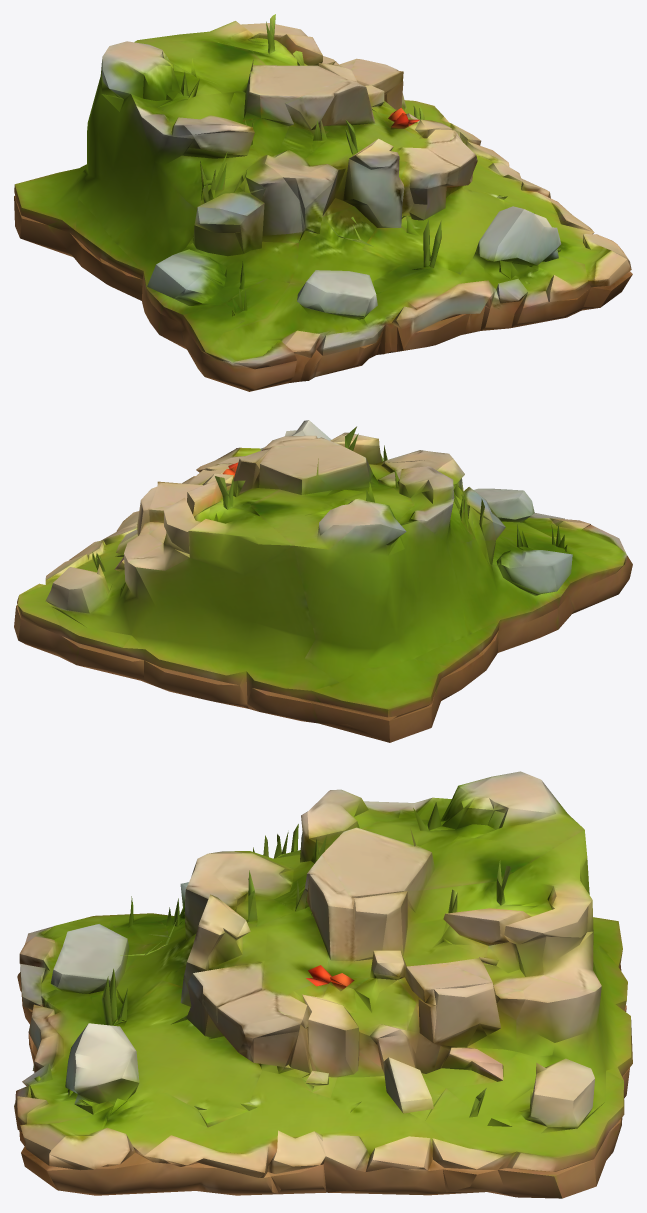
Rendered from m2FloatingRockIsle.glb.
3 views of the same model, one above another, from view 1: azimuth 30°, elevation 25°; view 2: azimuth 150°, elevation 25°; view 3: azimuth 270°, elevation 25° (orthographic). The views are drawn at different scales.
Parts seen in each view (by area): view 1: model; view 2: model; view 3: model.
Part boxes in pixels (x1,y1,x2,y2): model: (14, 14, 632, 391); model: (14, 420, 632, 742); model: (14, 771, 632, 1198).
Size of the model in its own units: 1.85 by 0.7887 by 1.9.
Materials: 1 (1 with a texture image).
